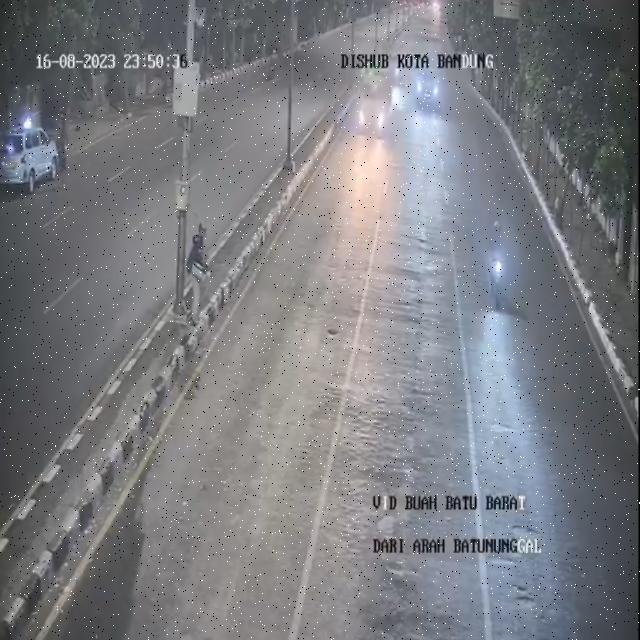cars: (356, 70, 397, 148), (412, 58, 447, 120)
motorcycle: (478, 218, 519, 320)
